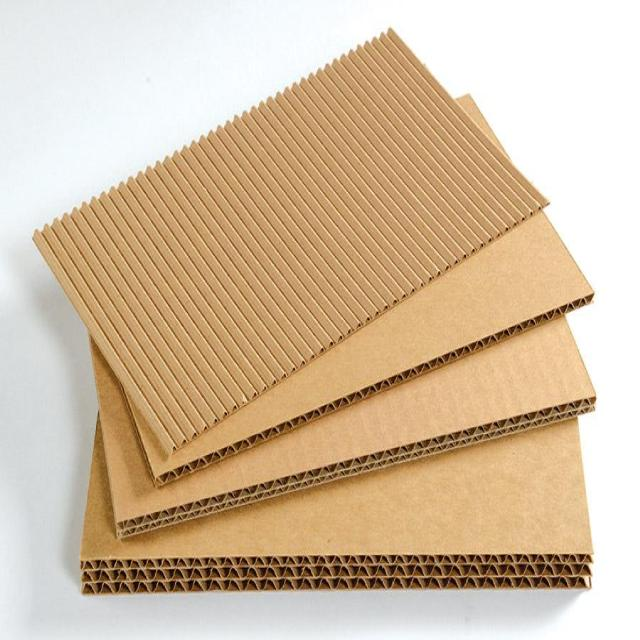cardboard: (32, 27, 599, 593)
